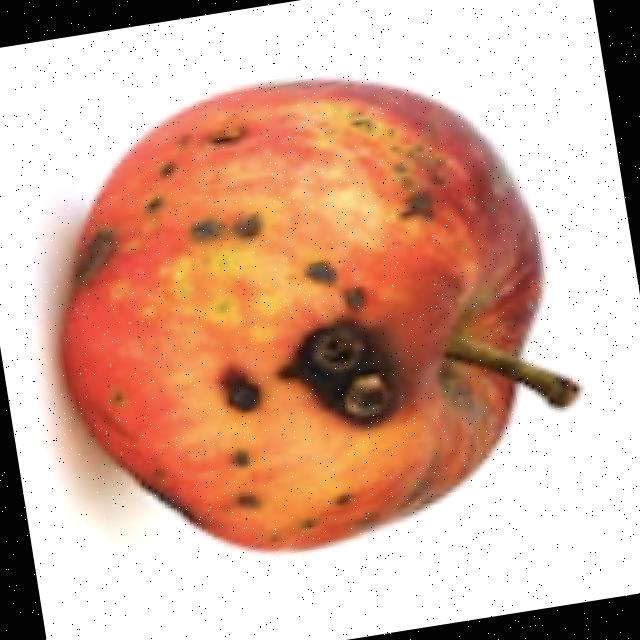Rotten: (22, 37, 608, 582)
